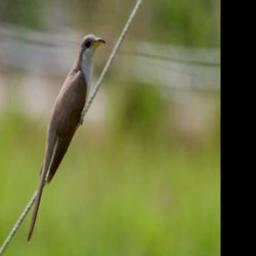Cuckoo: (24, 33, 107, 248)
